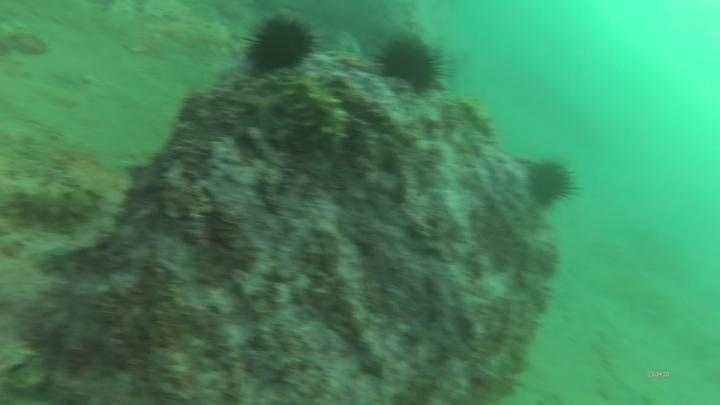echinus: (241, 12, 321, 77), (372, 31, 452, 96), (523, 157, 580, 210)
holothurian: (273, 70, 354, 154), (1, 180, 104, 230), (458, 91, 497, 140)
